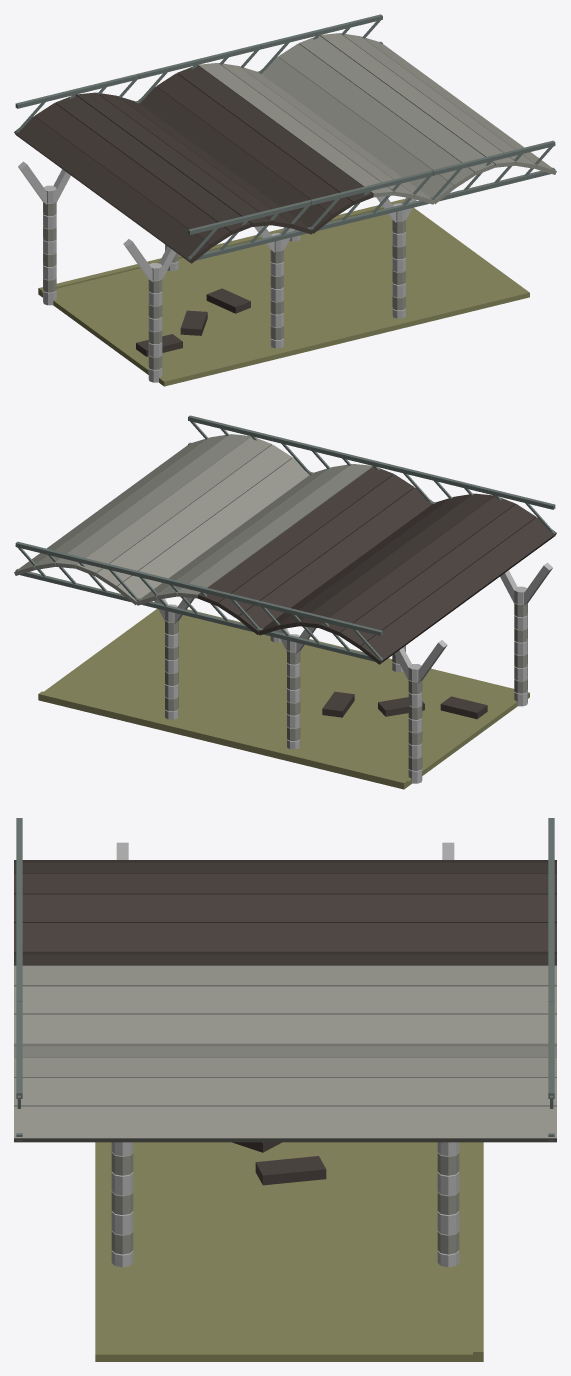
Rendered from SM_MarquesinaBus_v4_Quemada_e0_Sano_LOD0.fbx.
The picture shows the model from 3 angles, top to bottom: view 1: azimuth 30°, elevation 25°; view 2: azimuth 150°, elevation 25°; view 3: azimuth 270°, elevation 25°; orthographic projection. The views are drawn at different scales.
Parts seen in each view (by area): view 1: SM_marquesina_bus_v16_LOD0; view 2: SM_marquesina_bus_v16_LOD0; view 3: SM_marquesina_bus_v16_LOD0.
Part boxes in pixels (x1,y1,x2,y2): SM_marquesina_bus_v16_LOD0: [14, 14, 556, 386]; SM_marquesina_bus_v16_LOD0: [14, 415, 556, 789]; SM_marquesina_bus_v16_LOD0: [14, 818, 556, 1361].
Bounding box in the file's own units: 13.02 × 5.46 × 10.
